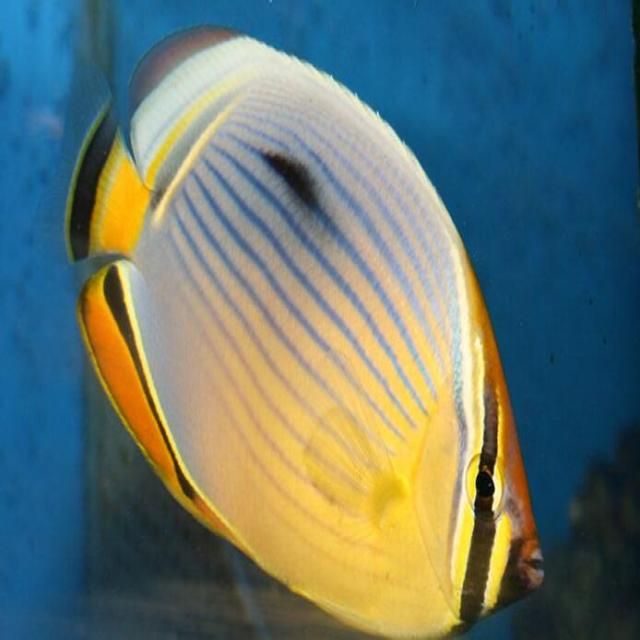ButterflyFish: (66, 27, 543, 640)
